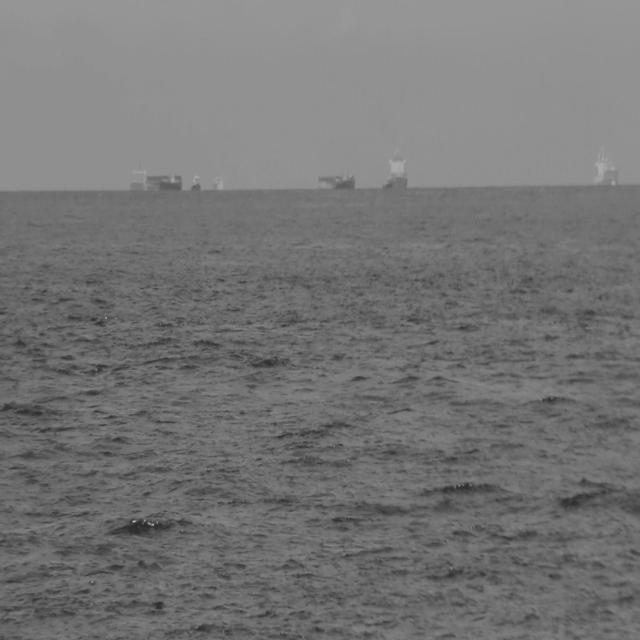ship: (130, 163, 183, 194), (379, 144, 409, 192), (592, 144, 618, 189), (316, 169, 356, 192), (190, 172, 202, 192)
